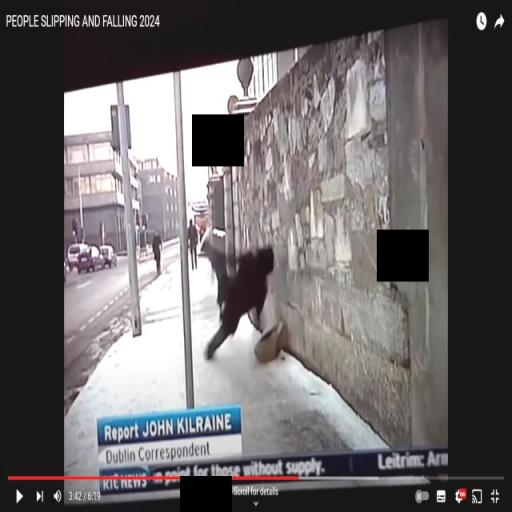Fall: (197, 232, 278, 364)
